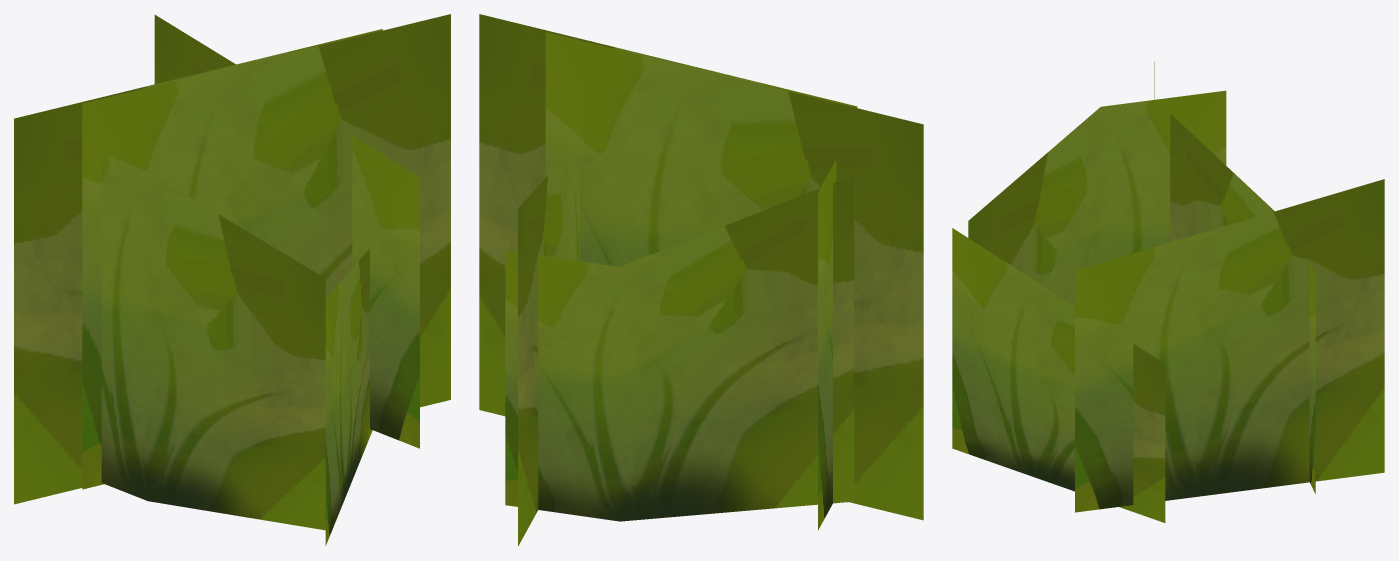
Rendered from SM_Grass_05.fbx.
The picture shows the model from 3 angles, left to right: view 1: azimuth 30°, elevation 25°; view 2: azimuth 150°, elevation 25°; view 3: azimuth 270°, elevation 25°; orthographic projection. The views are drawn at different scales.
Parts seen in each view (by area): view 1: SM_Grass_05; view 2: SM_Grass_05; view 3: SM_Grass_05.
Part boxes in pixels (x1=…): SM_Grass_05: x1=14, y1=14, x2=450, y2=545; SM_Grass_05: x1=479, y1=14, x2=923, y2=546; SM_Grass_05: x1=952, y1=61, x2=1384, y2=522.
Size of the model in its own units: 0.1872 by 0.1612 by 0.1808.
